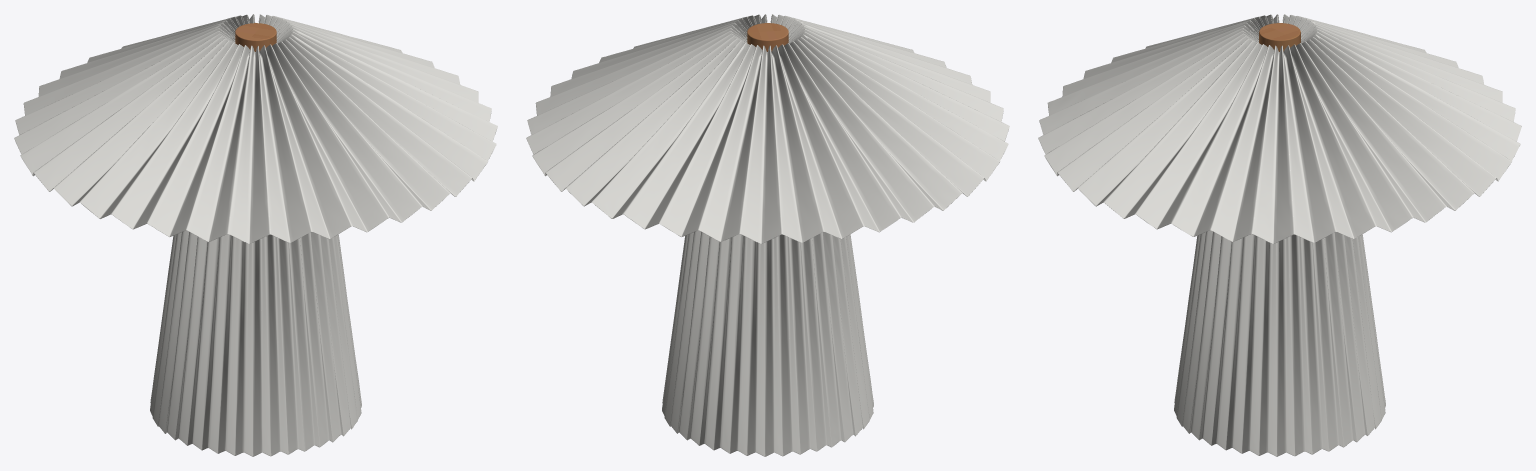
The model's file is kuddlava_table_lamp_pleated_white.glb.
3 views of the same model, side by side, from view 1: azimuth 30°, elevation 25°; view 2: azimuth 150°, elevation 25°; view 3: azimuth 270°, elevation 25° (orthographic).
Visible parts, largest first — view 1: 20492488_table_lamp, 20492488_table_lamp.002; view 2: 20492488_table_lamp, 20492488_table_lamp.002; view 3: 20492488_table_lamp, 20492488_table_lamp.002.
Part boxes in pixels (x1,y1,x2,y2): 20492488_table_lamp: [14, 14, 497, 456]; 20492488_table_lamp.002: [235, 23, 276, 51]; 20492488_table_lamp: [526, 14, 1009, 456]; 20492488_table_lamp.002: [747, 23, 788, 51]; 20492488_table_lamp: [1038, 14, 1521, 456]; 20492488_table_lamp.002: [1259, 23, 1300, 51].
Bounding box in the file's own units: 0.32 × 0.28 × 0.32.
Materials: 4 (1 with a texture image).
